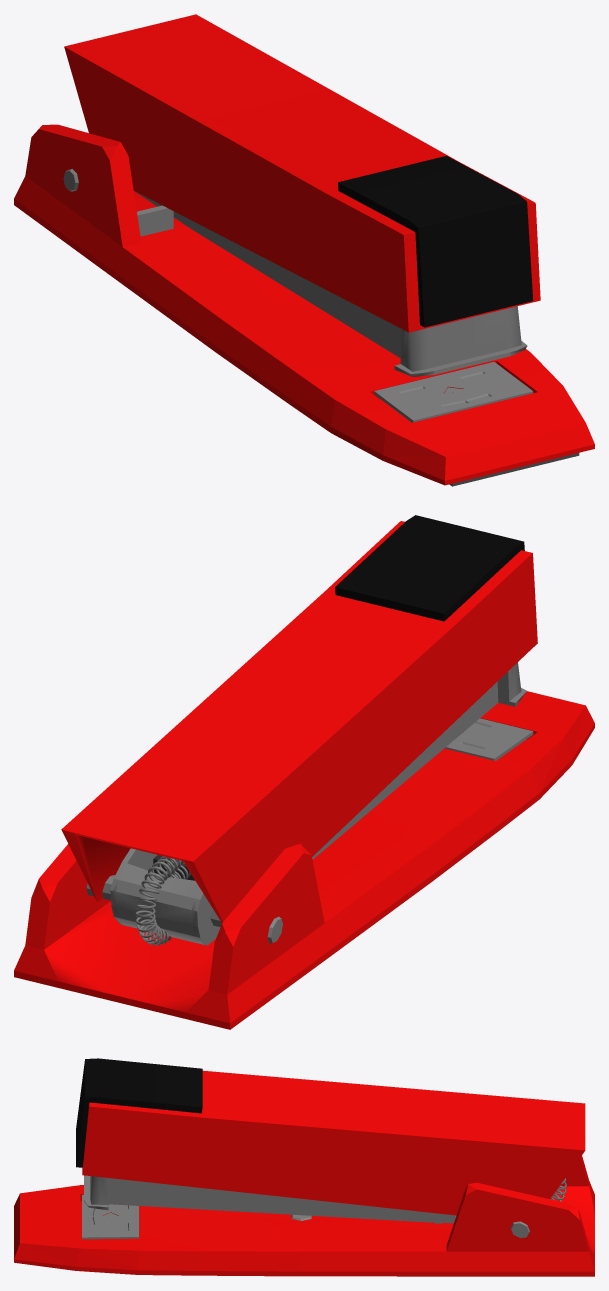
File: stapler.FBX
3 renders of one model, top to bottom at view 1: azimuth 30°, elevation 25°; view 2: azimuth 150°, elevation 25°; view 3: azimuth 270°, elevation 25°, orthographic. The views are drawn at different scales.
Visible parts, largest first — view 1: Box03, Box01, Box02; view 2: Box03, Box01, Box02, Spring03; view 3: Box03, Box01, Box02.
Boxes of the visible parts, x1,y1,x2,y2 form: Box03: (64, 14, 540, 332); Box01: (14, 124, 594, 486); Box02: (134, 191, 527, 376); Box03: (61, 515, 537, 922); Box01: (14, 691, 594, 1029); Box02: (110, 662, 526, 945); Spring03: (135, 861, 171, 945); Box03: (76, 1058, 585, 1215); Box01: (14, 1156, 594, 1276); Box02: (84, 1175, 455, 1223).
Size of the model in its own units: 39.74 by 39.73 by 127.
